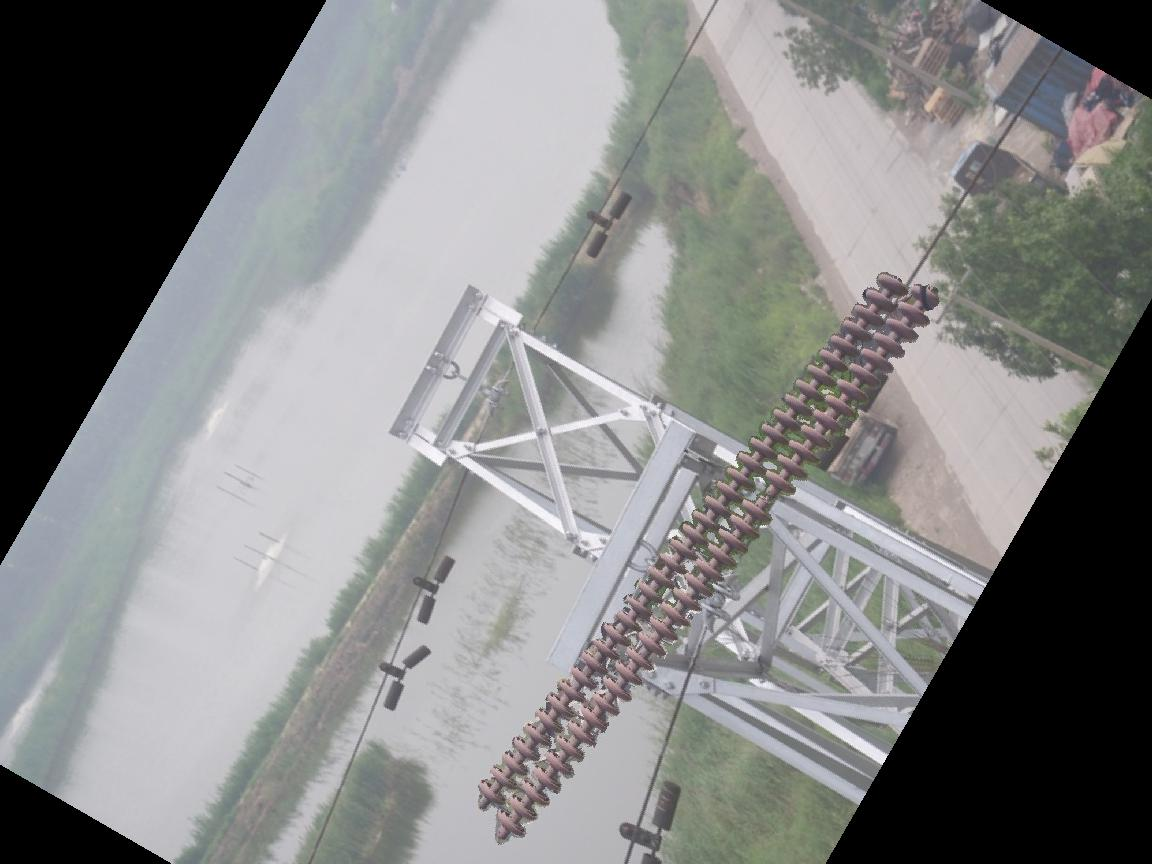insulator: (473, 268, 945, 845)
insulator_stringdrop: (738, 467, 801, 527)
